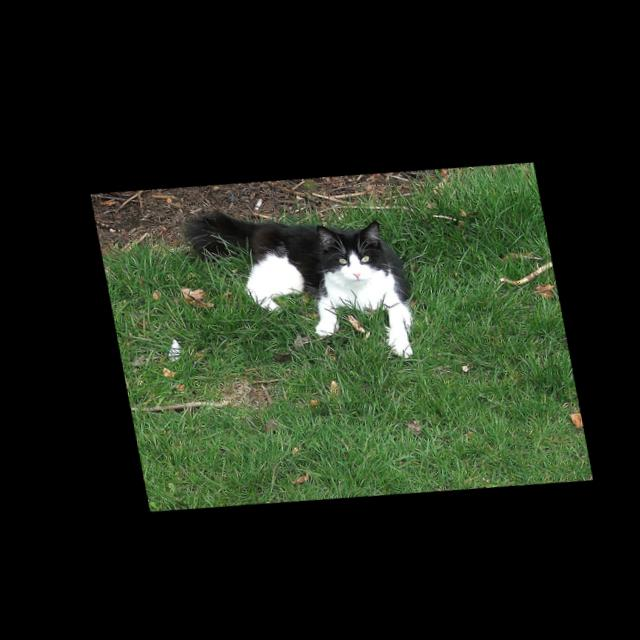animals: (314, 213, 382, 277)
